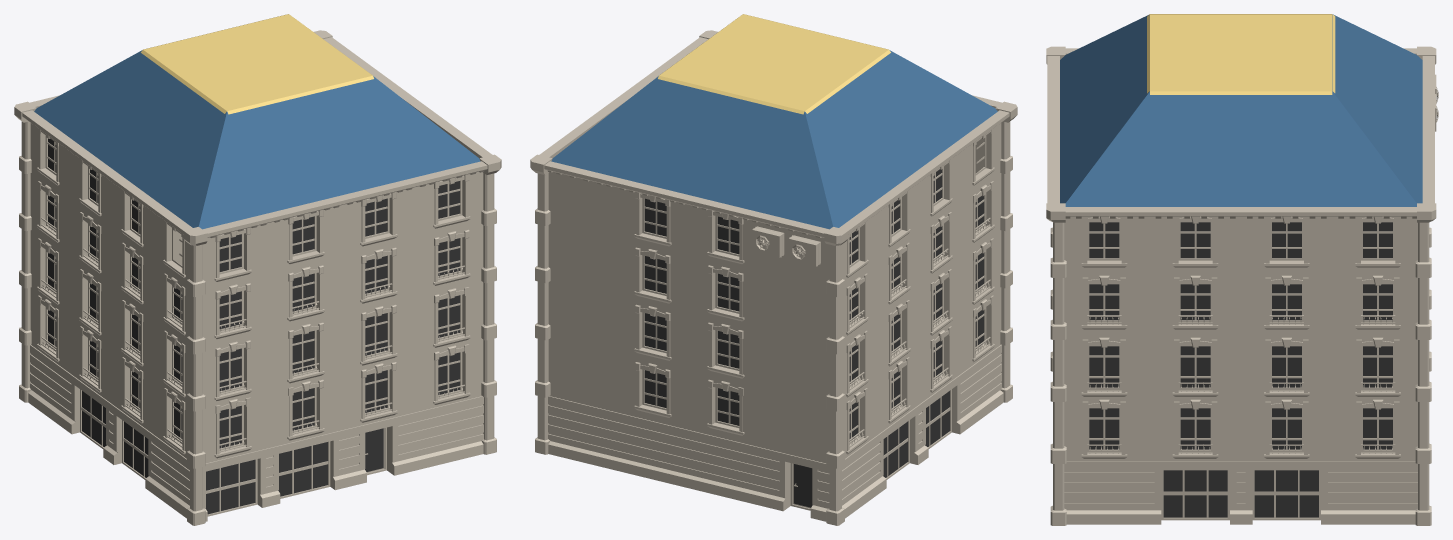
Rendered from Building.fbx.
The picture shows the model from 3 angles, left to right: view 1: azimuth 30°, elevation 25°; view 2: azimuth 150°, elevation 25°; view 3: azimuth 270°, elevation 25°; orthographic projection. The views are drawn at different scales.
Visible parts, largest first — view 1: SU_COLOR; view 2: SU_COLOR; view 3: SU_COLOR.
Part boxes in pixels (bbox=[...]): SU_COLOR: bbox=[14, 14, 501, 525]; SU_COLOR: bbox=[530, 14, 1017, 525]; SU_COLOR: bbox=[1046, 14, 1438, 525].
Bounding box in the file's own units: 17.1 × 19.01 × 17.21.
